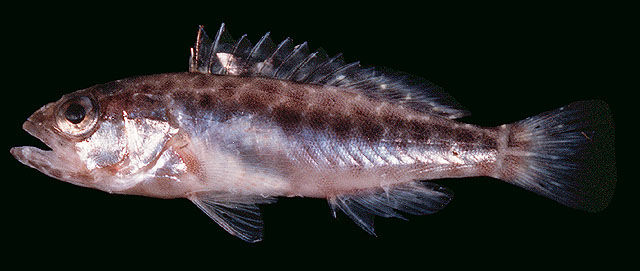fish: (10, 22, 583, 243)
